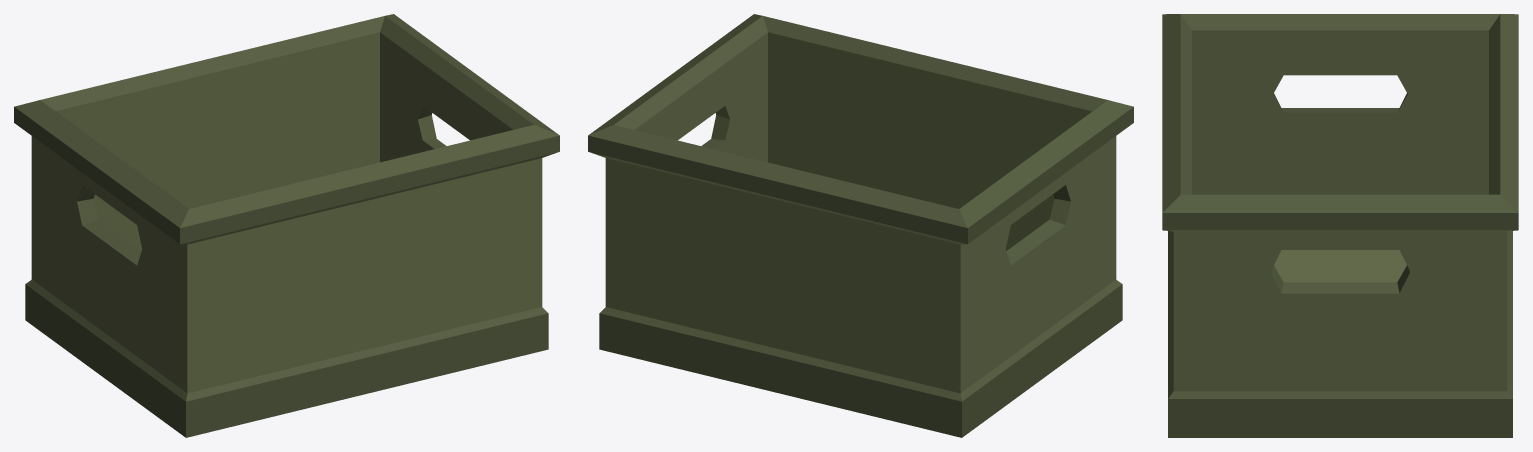
Rendered from SM_Prop_Box_01.glb.
The picture shows the model from 3 angles, left to right: view 1: azimuth 30°, elevation 25°; view 2: azimuth 150°, elevation 25°; view 3: azimuth 270°, elevation 25°; orthographic projection. The views are drawn at different scales.
Visible parts, largest first — view 1: SM_Prop_Box_01; view 2: SM_Prop_Box_01; view 3: SM_Prop_Box_01.
Boxes of the visible parts, left/top/right/bottom form: SM_Prop_Box_01: left=14, top=14, right=559, bottom=437; SM_Prop_Box_01: left=588, top=14, right=1133, bottom=437; SM_Prop_Box_01: left=1162, top=14, right=1518, bottom=437.
Size of the model in its own units: 0.5847 by 0.3273 by 0.4427.
Materials: 1 (1 with a texture image).
